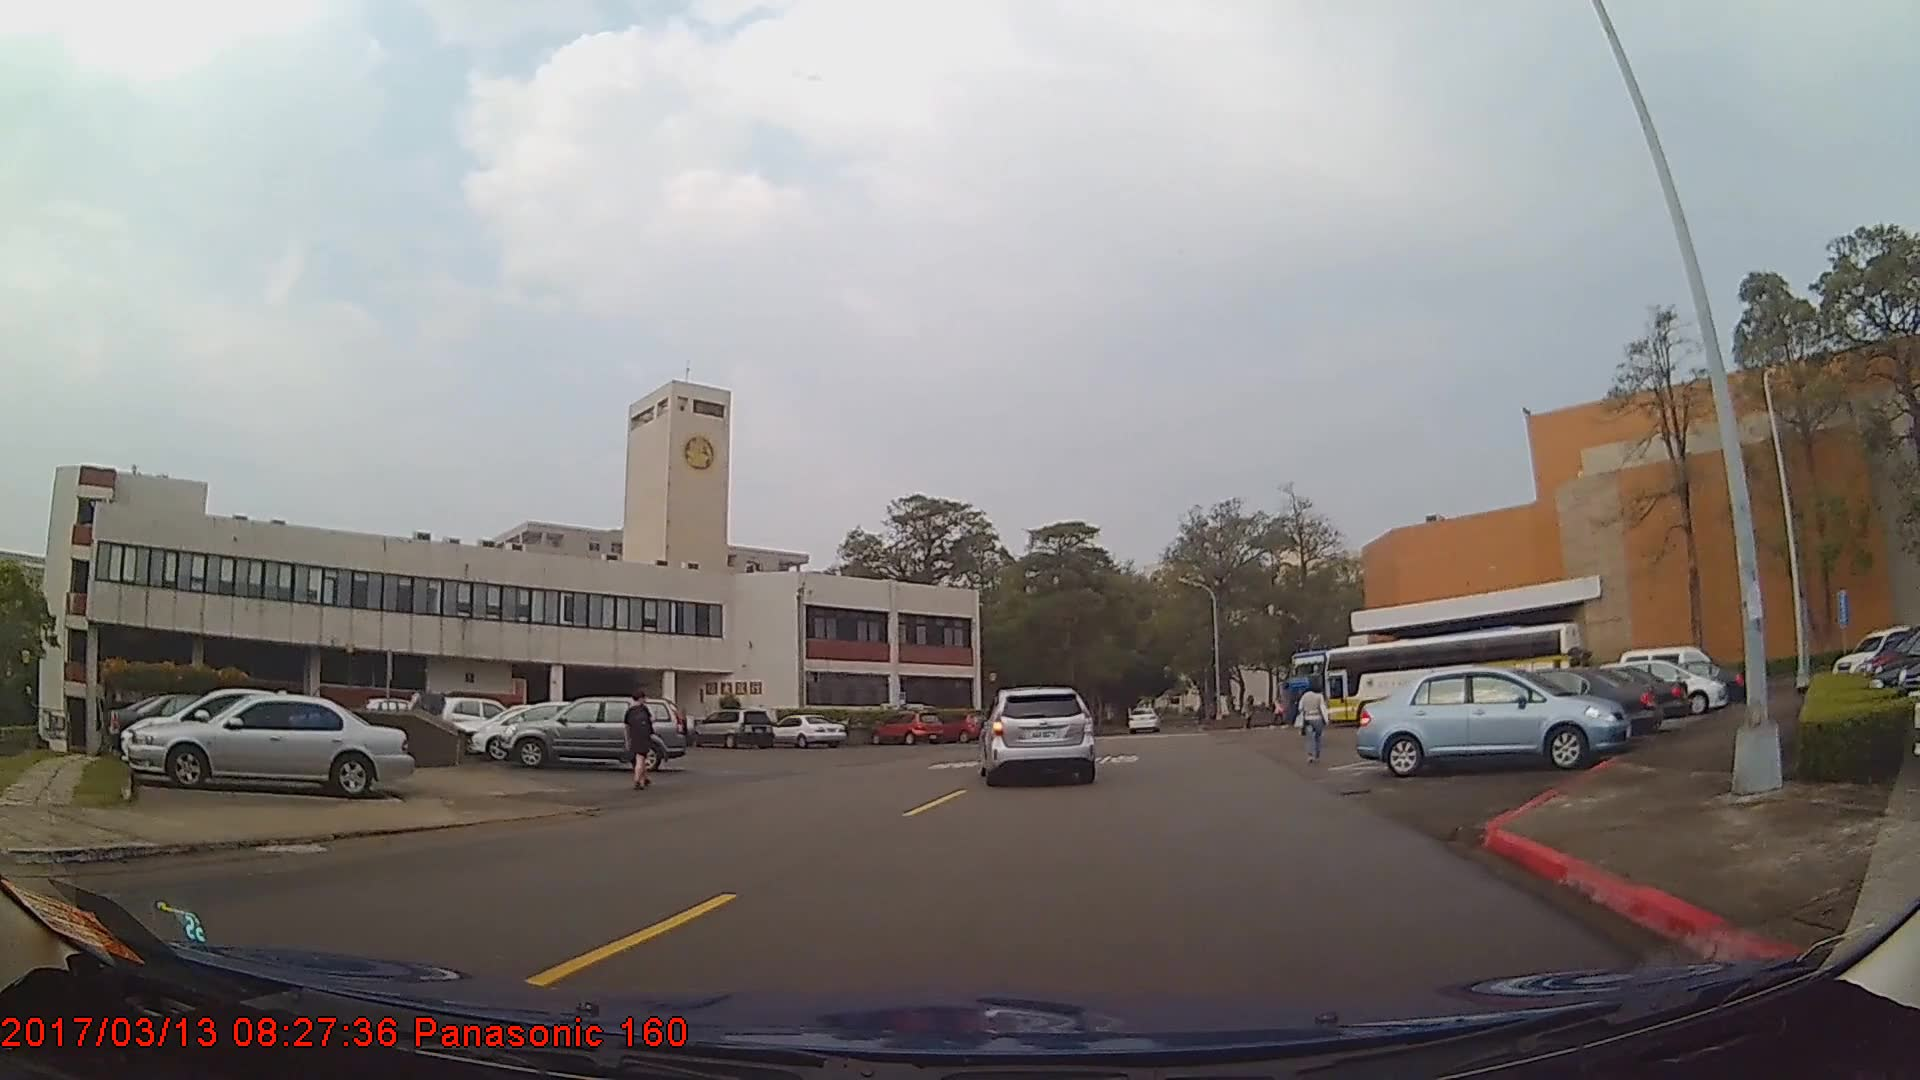pedestrian: (624, 691, 657, 792), (1293, 679, 1327, 768)
vehicle: (1356, 664, 1632, 777), (125, 690, 414, 796), (1322, 622, 1583, 730), (1431, 670, 1662, 744), (496, 694, 691, 771), (1505, 667, 1691, 733), (981, 684, 1093, 786), (470, 699, 623, 761), (437, 693, 524, 746), (688, 706, 775, 748), (766, 711, 847, 746), (870, 710, 944, 746), (1126, 710, 1159, 739)
